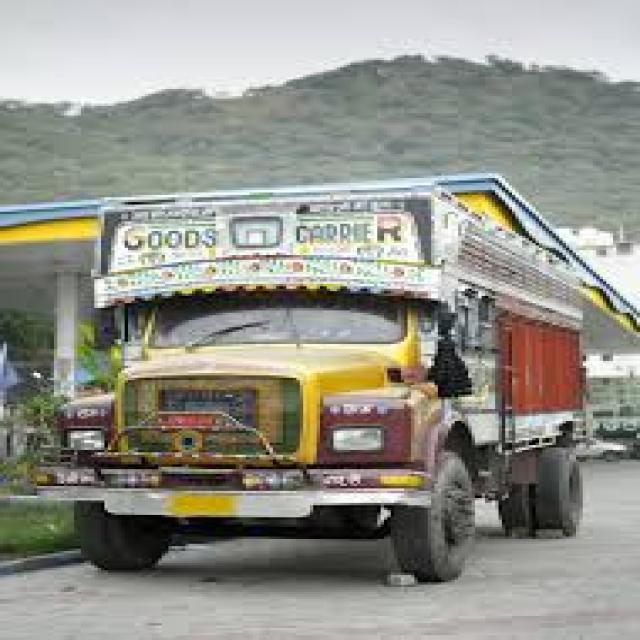covered: (14, 168, 636, 580)
